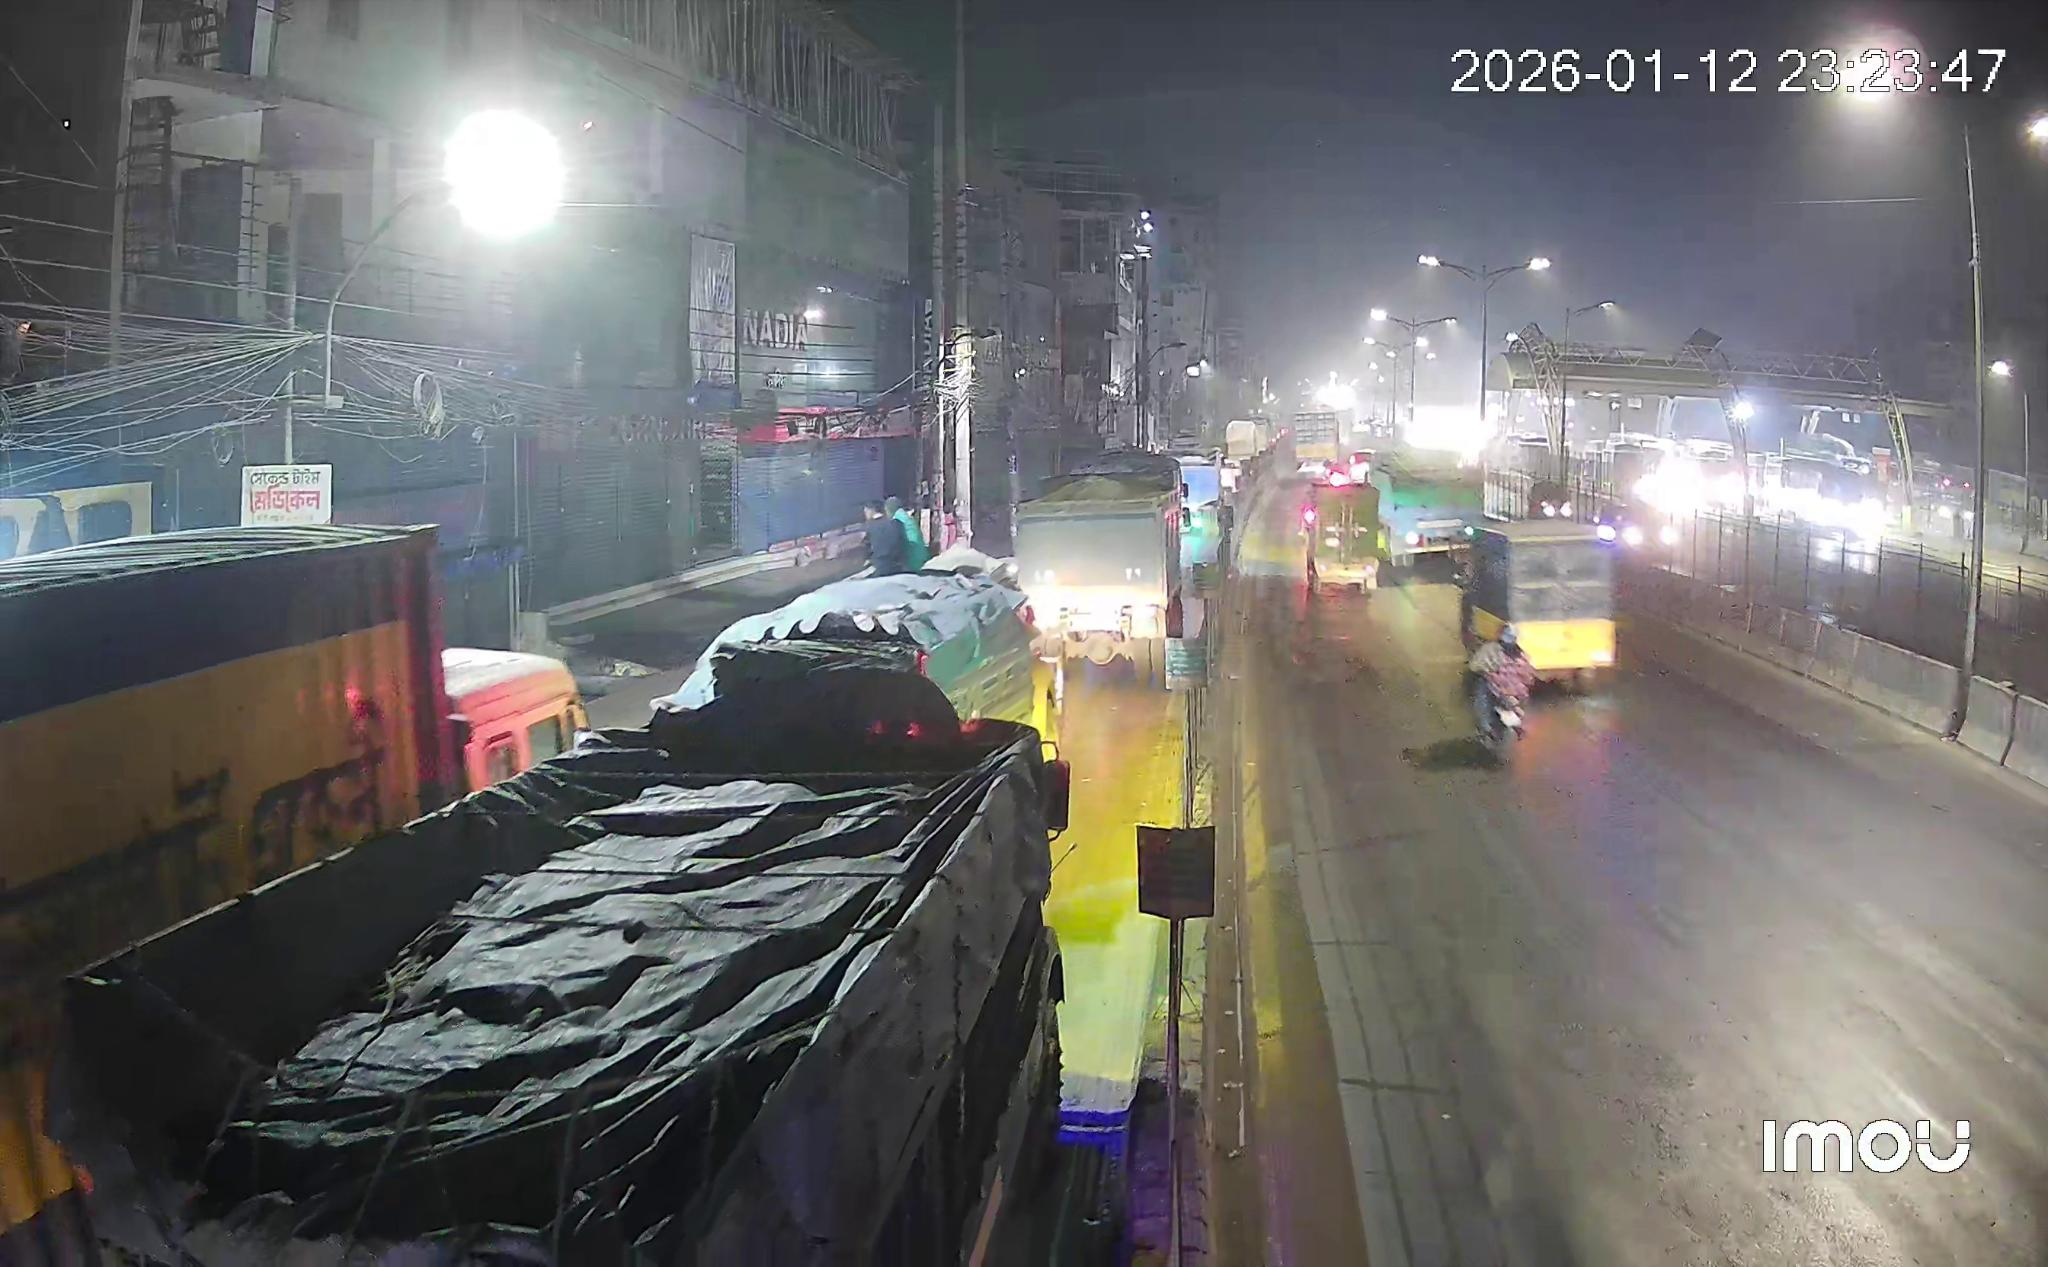Motorcycle: (1464, 623, 1535, 759)
Truck: (44, 657, 1068, 1267), (0, 525, 590, 1233), (654, 547, 1058, 739), (1015, 451, 1219, 685), (1460, 519, 1619, 691), (1369, 451, 1485, 566), (1303, 471, 1388, 593)
